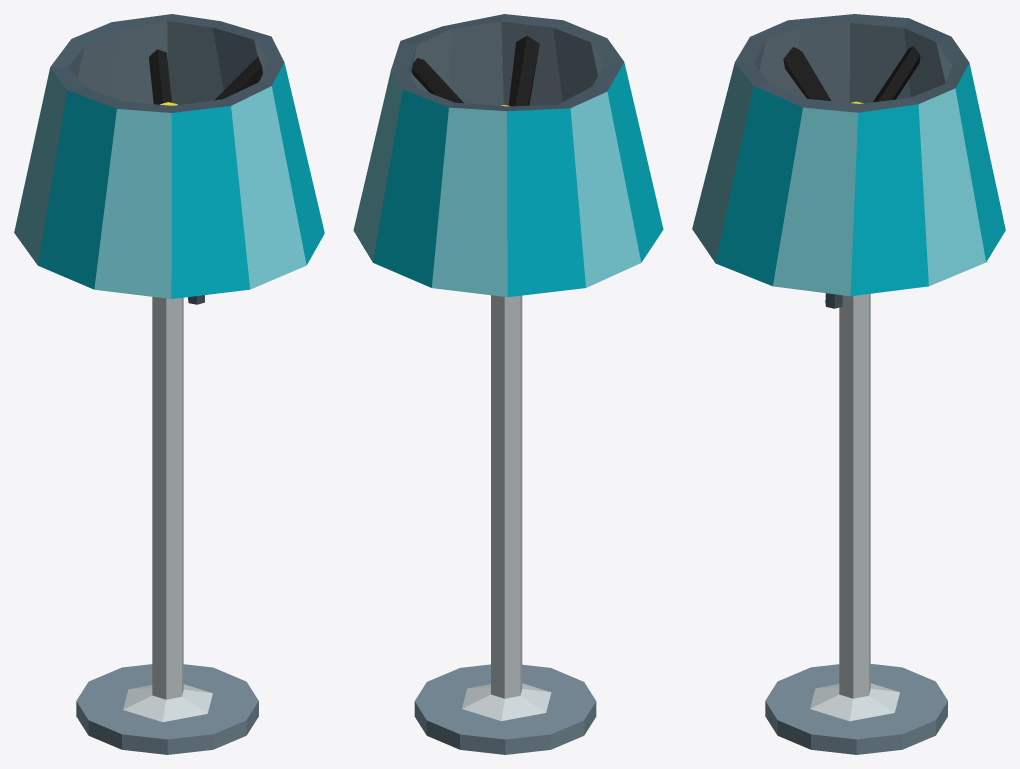
File: Lamp.glb
3 views of the same model, side by side, from view 1: azimuth 30°, elevation 25°; view 2: azimuth 150°, elevation 25°; view 3: azimuth 270°, elevation 25° (orthographic).
Visible parts, largest first — view 1: group1158721303; view 2: group1158721303; view 3: group1158721303.
Part boxes in pixels (x1,y1,x2,y2): group1158721303: [14, 14, 324, 754]; group1158721303: [353, 14, 663, 754]; group1158721303: [692, 14, 1005, 754].
Bounding box in the file's own units: 0.4774 × 1.11 × 0.4805.
